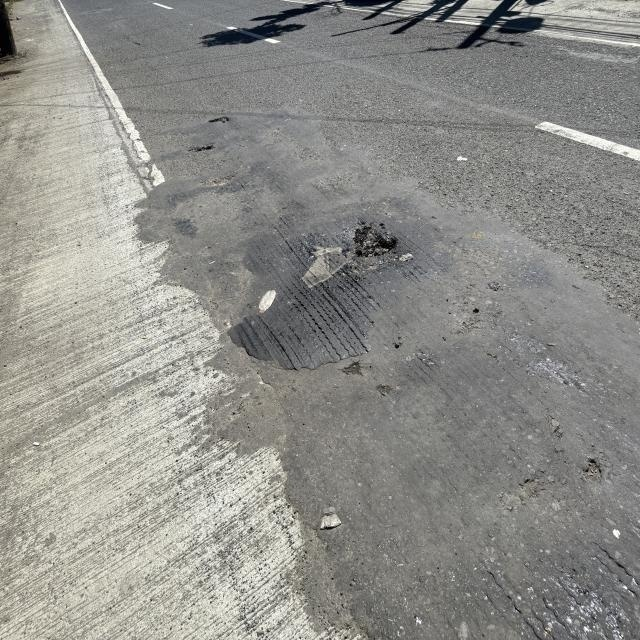pothole: (179, 86, 246, 132), (182, 133, 226, 175)
